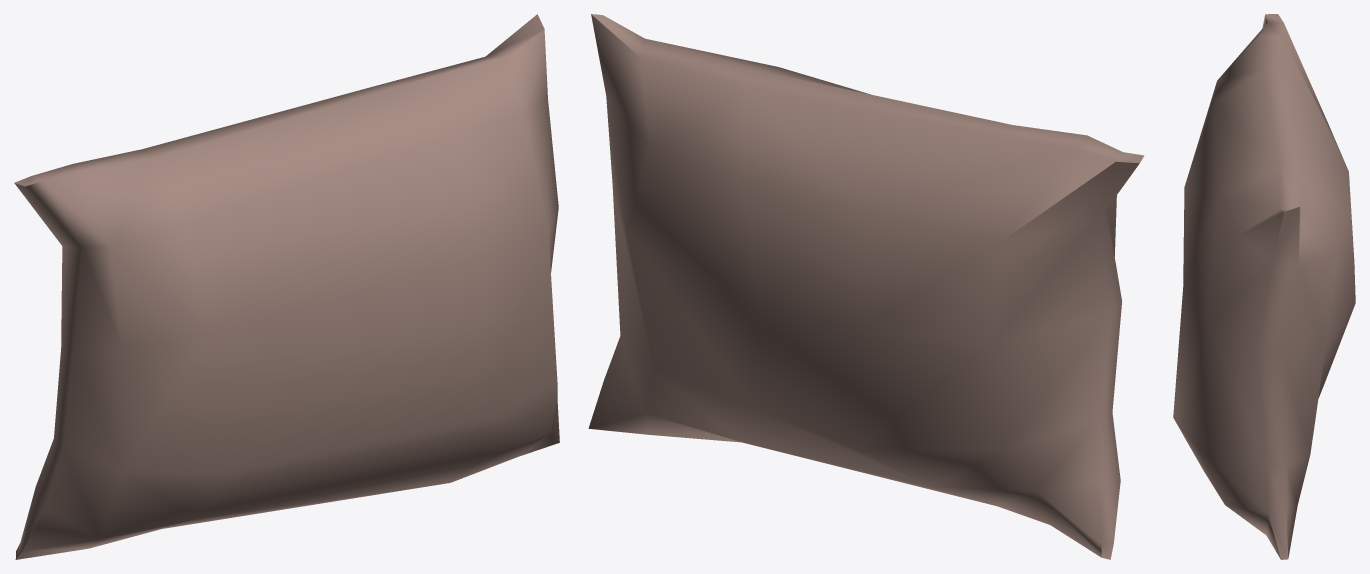
The model's file is pillow.glb.
3 renders of one model, left to right at view 1: azimuth 30°, elevation 25°; view 2: azimuth 150°, elevation 25°; view 3: azimuth 270°, elevation 25°, orthographic. The views are drawn at different scales.
Visible parts, largest first — view 1: pillow_001; view 2: pillow_001; view 3: pillow_001.
Part boxes in pixels (<box>): pillow_001: <box>14,14,559,559</box>; pillow_001: <box>588,14,1144,559</box>; pillow_001: <box>1173,14,1355,559</box>.
Bounding box in the file's own units: 0.4225 × 0.3119 × 0.1479.
1 material, 1 textured.
